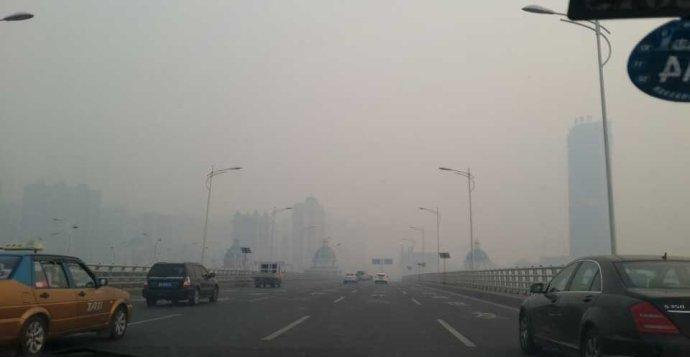bus: (251, 260, 285, 288)
car: (517, 252, 690, 357), (1, 235, 133, 357), (141, 260, 219, 307), (343, 270, 358, 285), (373, 272, 390, 285)
